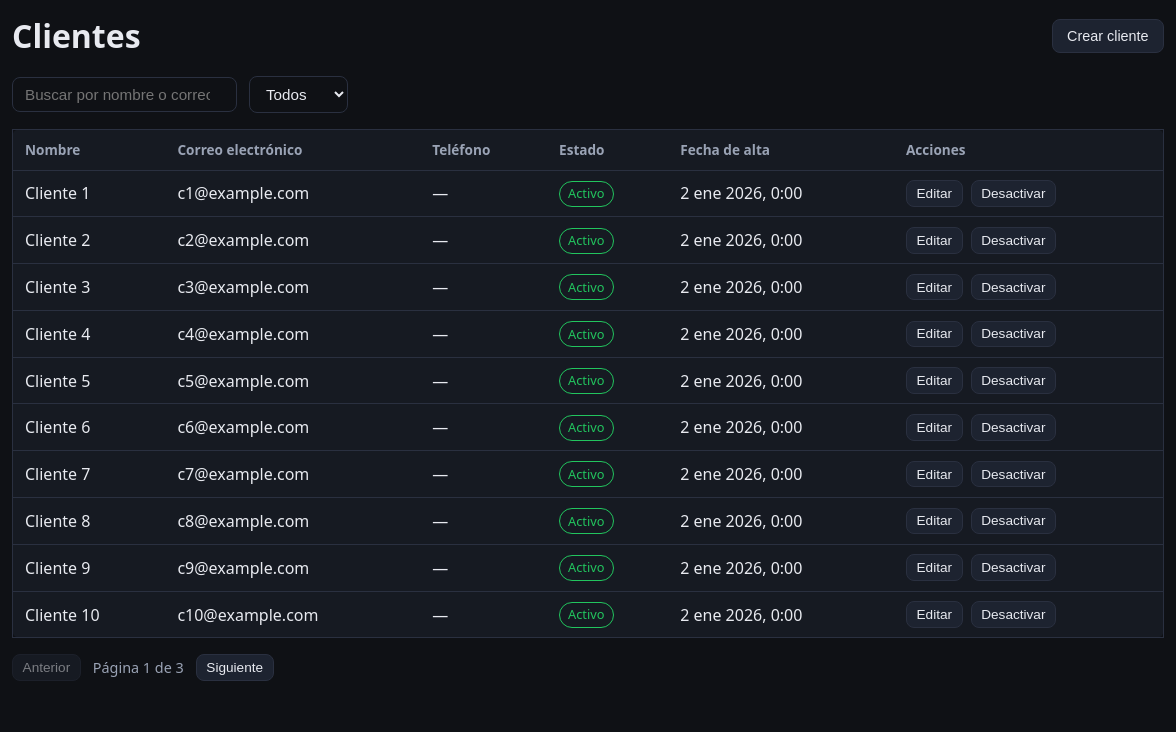
Test case: R-UI-CRM-1: customers list › R-UI-CRM-1: pagination — 25 customers, page 2/limit 10 → rows 11-20, page 3 reachable
The width and height of the screenshot is (1176, 732).
Expected: the text "Cliente 1" is shown, 12,170 -> 165,217
Expected: the text "Cliente 11" is not shown
Click the button "Siguiente".
click(235, 668)  # box 196,654 -> 274,681
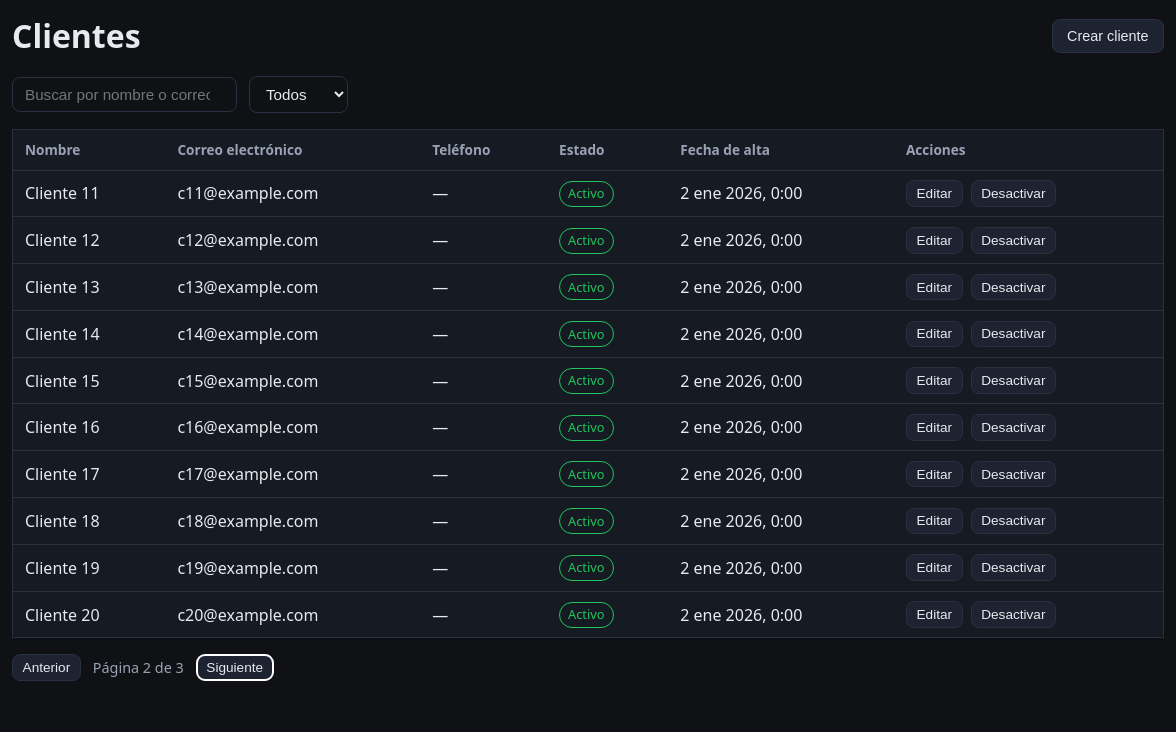
Expected: the text "Cliente 11" is shown, 12,170 -> 165,217
Expected: the text "Página 2 de 3" is shown, 93,657 -> 184,678
Click the button "Siguiente".
click(235, 668)  # box 196,654 -> 274,681
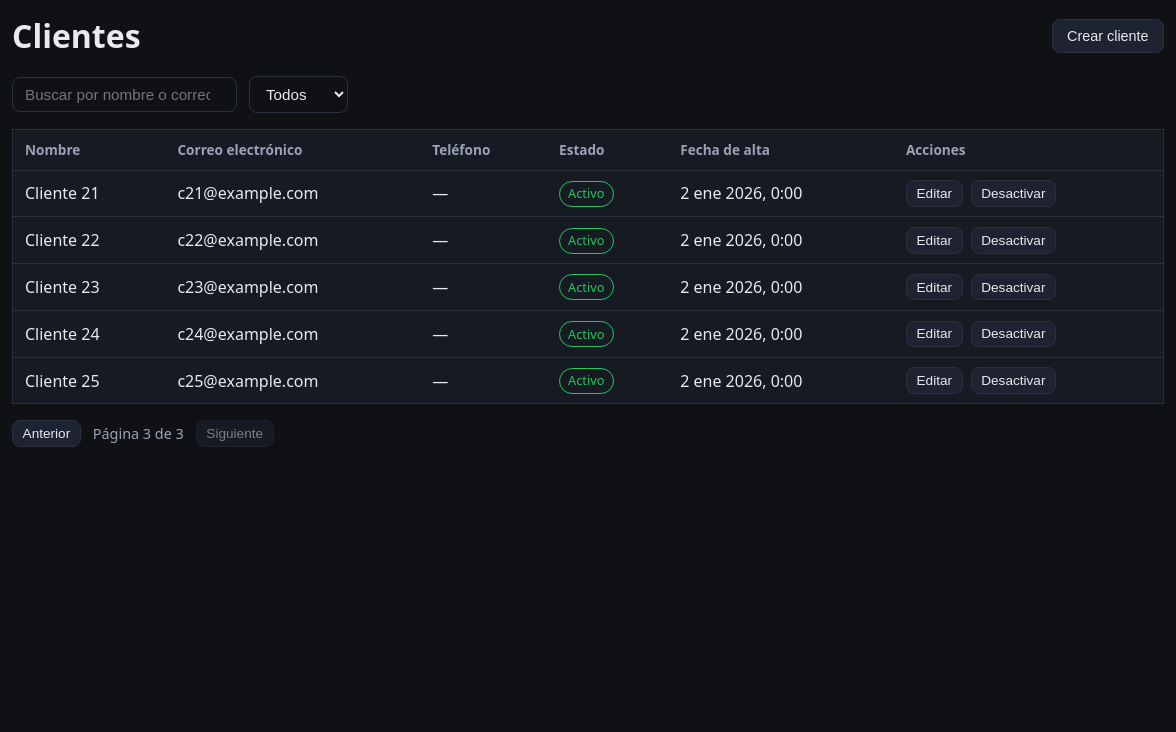
Expected: the text "Página 3 de 3" is shown, 93,423 -> 184,445
Expected: the text "Cliente 21" is shown, 12,170 -> 165,217
